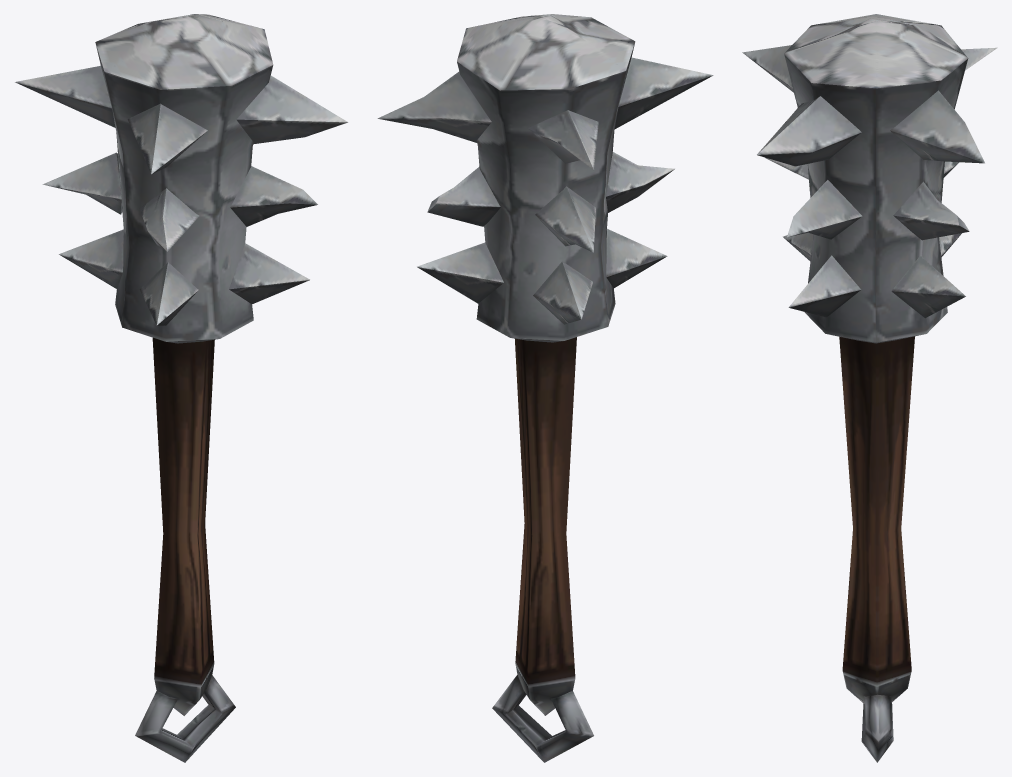
The model's file is troll_mace.fbx.
3 views of the same model, side by side, from view 1: azimuth 30°, elevation 25°; view 2: azimuth 150°, elevation 25°; view 3: azimuth 270°, elevation 25° (orthographic).
Parts seen in each view (by area): view 1: mace_01; view 2: mace_01; view 3: mace_01.
Part boxes in pixels (x1,y1,x2,y2): mace_01: [15, 14, 347, 762]; mace_01: [377, 14, 713, 762]; mace_01: [742, 14, 997, 762].
Size of the model in its own units: 0.9277 by 2.95 by 0.9234.
